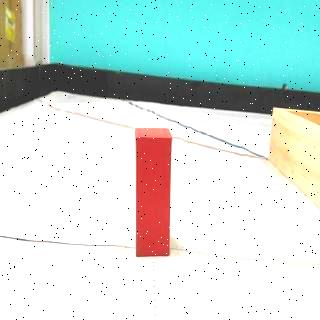redbox: (134, 125, 174, 258)
